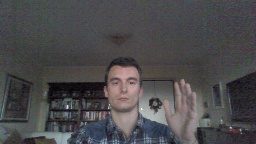Mano_aperta: (160, 78, 198, 142)
